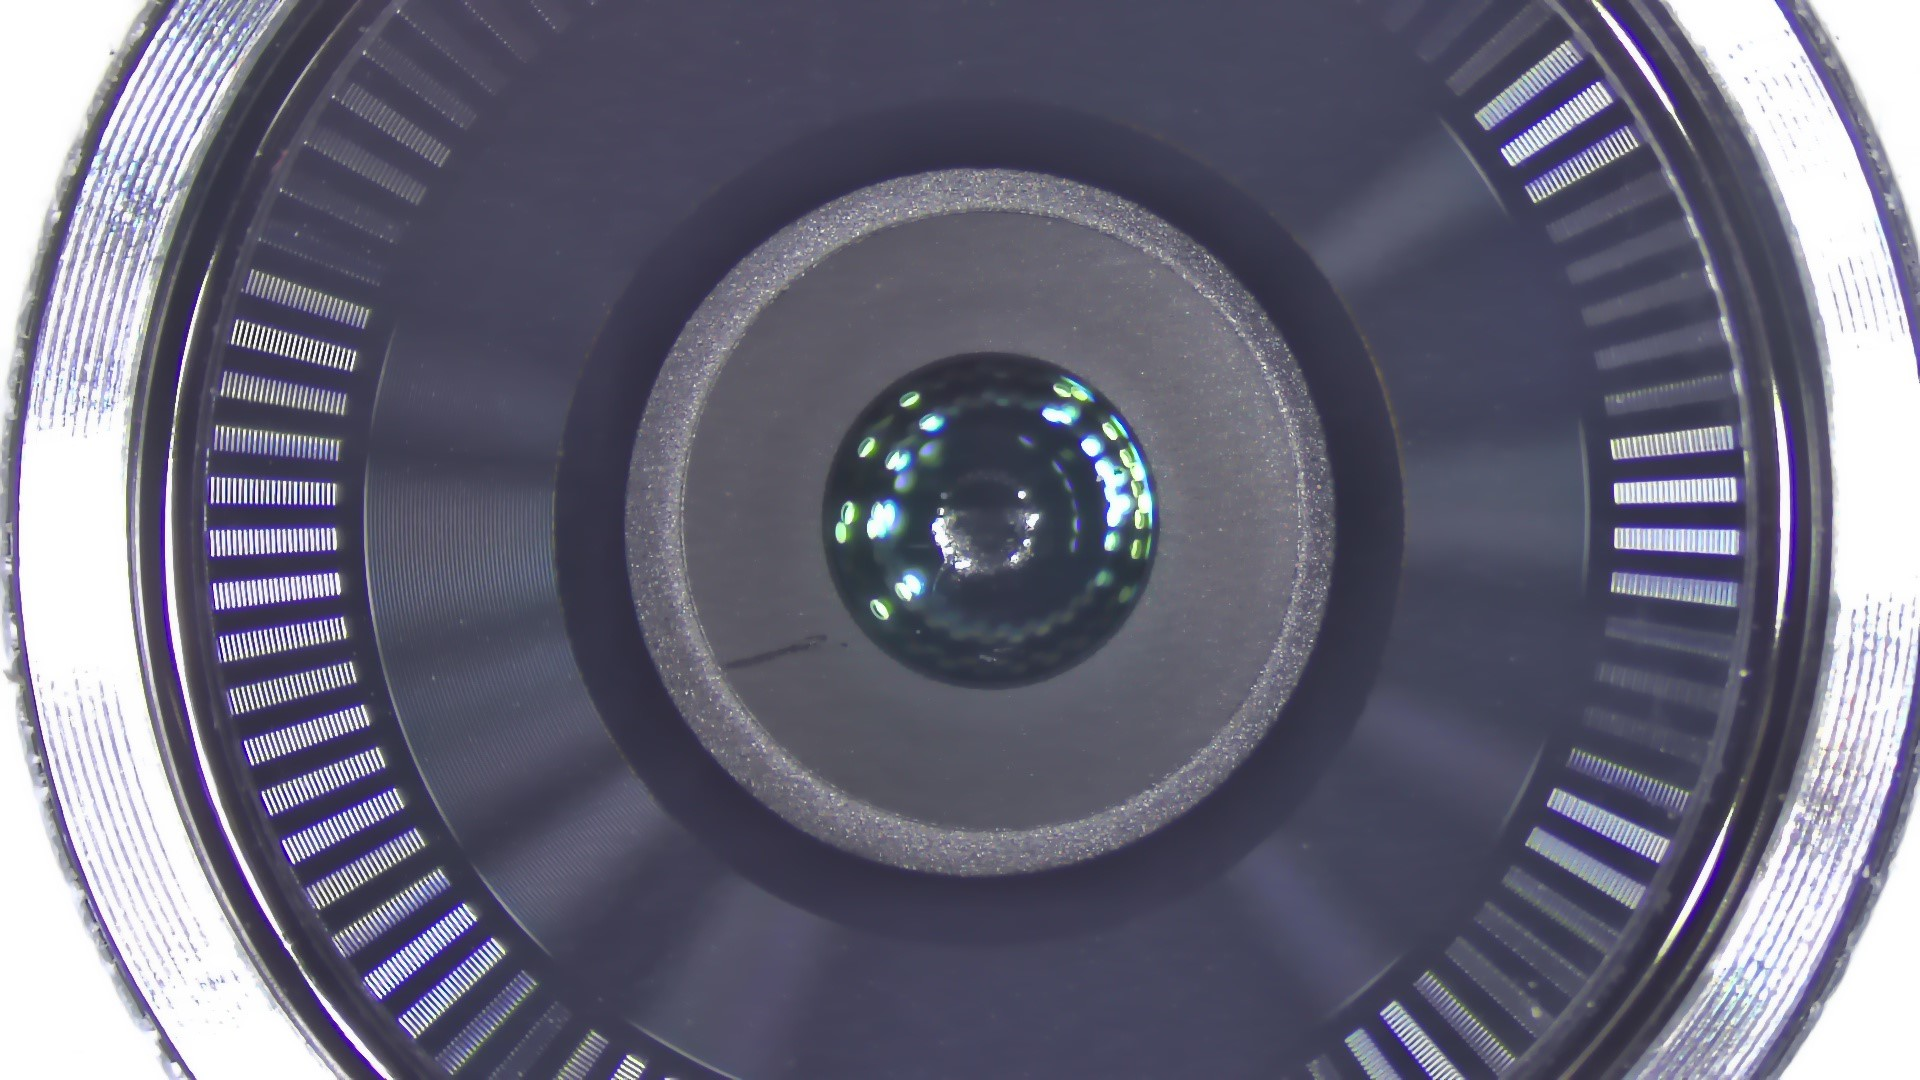crack: (679, 615, 880, 688)
